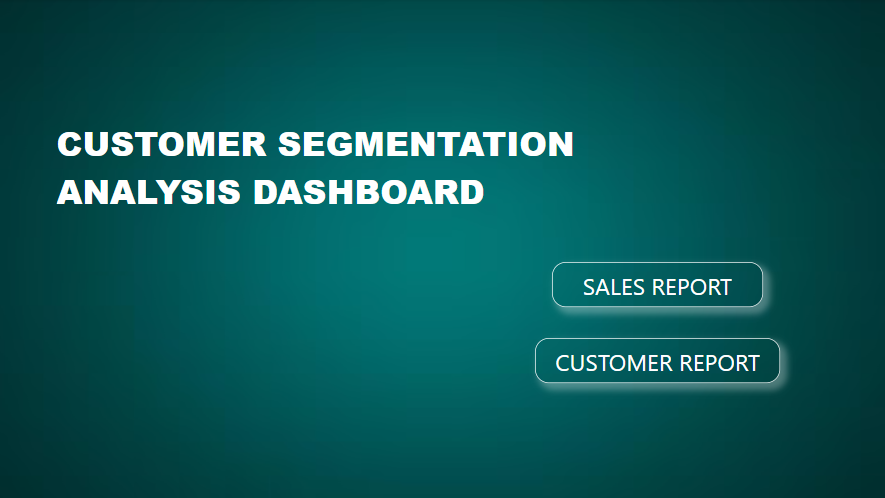

This screenshot's page, from the dashboard's own definition file:
{"tool":"powerbi","page":{"name":"Customer Segmentation","canvas":[1280,720],"ordinal":0},"visuals":[{"type":"textbox","box":[79.2,168.5,794.9,157],"z":1000},{"type":"actionButton","title":"SALES REPORT","box":[797.8,378.7,303.8,64.8],"z":2000},{"type":"actionButton","title":"SALES REPORT","box":[773.3,488.2,352.8,64.8],"z":3000}]}

Visuals, with their boxes in screenshot pixels (x1, y1, x2, y2), scaled from the page's 1280x720 canvas onto the 885x498 screenshot:
textbox: box=[55, 117, 604, 225]
"SALES REPORT" actionButton: box=[552, 262, 762, 307]
"SALES REPORT" actionButton: box=[535, 338, 779, 382]
